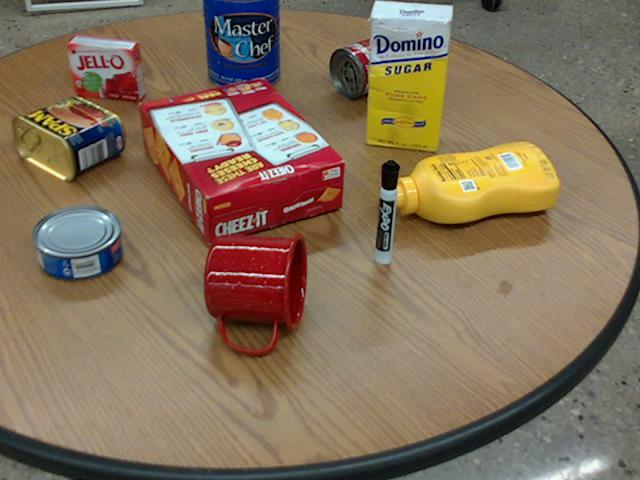cracker_box: (139, 78, 345, 244)
gelatin_box: (67, 35, 144, 99)
large_marker: (375, 160, 399, 263)
master_chef_can: (204, 0, 280, 89)
mug: (203, 233, 305, 352)
mustard_bottle: (381, 141, 558, 223)
potted_meat_can: (12, 96, 123, 179)
sugar_box: (367, 0, 452, 151)
tomato_soup_can: (329, 28, 415, 96)
tuna_fish_can: (32, 204, 121, 279)
